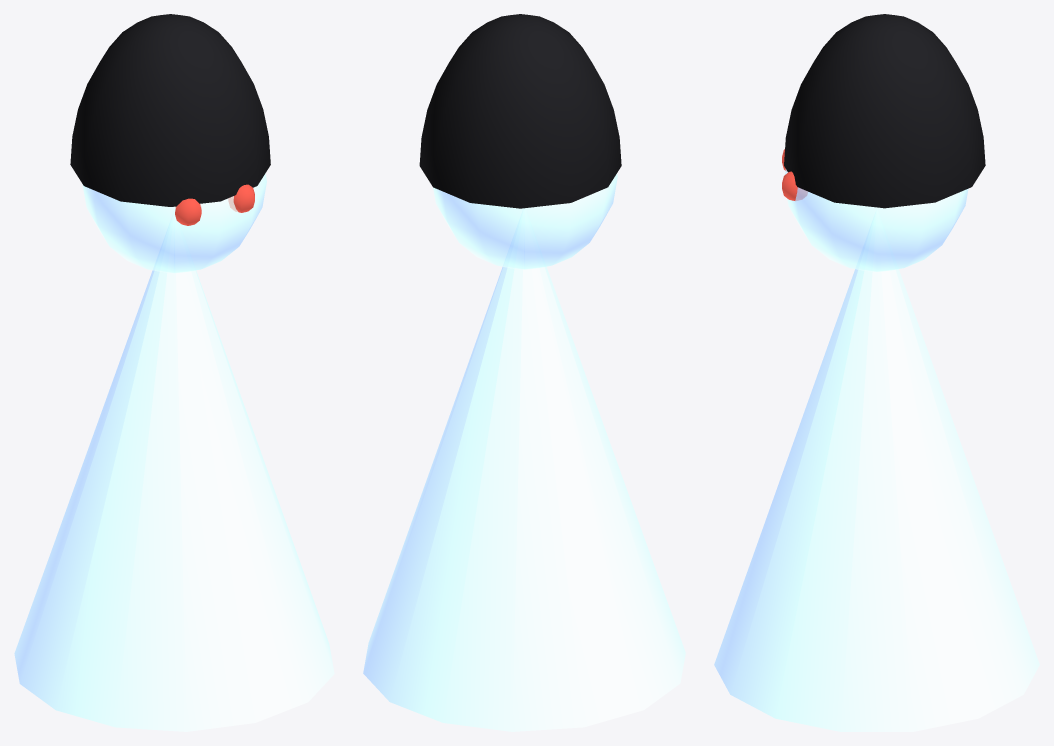
The model's file is winyan.glb.
3 renders of one model, left to right at view 1: azimuth 30°, elevation 25°; view 2: azimuth 150°, elevation 25°; view 3: azimuth 270°, elevation 25°, orthographic.
Bounding box in the file's own units: 0.8189 × 1.84 × 0.84.
